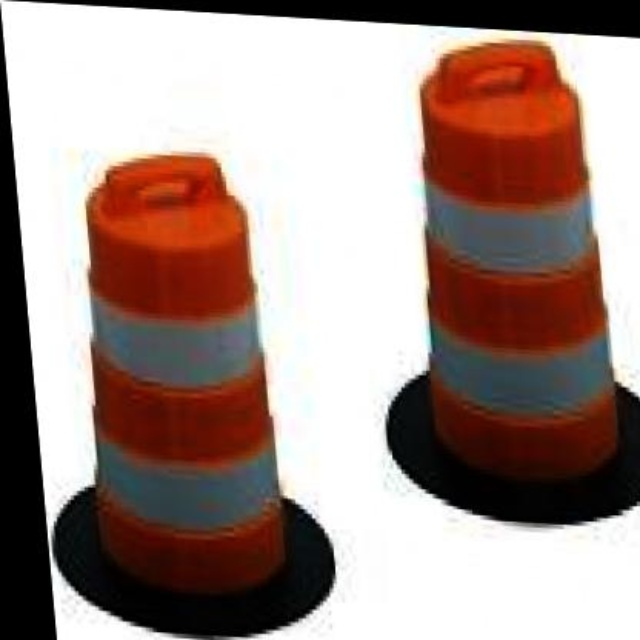obstacle: (50, 130, 299, 624), (385, 32, 627, 485)
